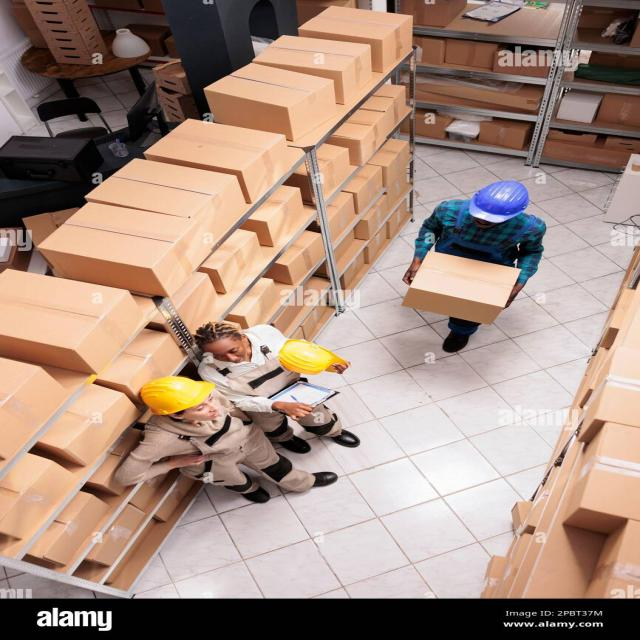box: (55, 198, 211, 285), (6, 270, 143, 369), (111, 149, 241, 222), (139, 123, 312, 174), (421, 244, 522, 330), (231, 59, 331, 133), (281, 31, 374, 82), (322, 1, 416, 51)
